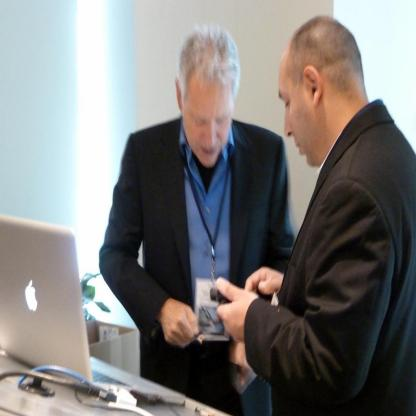board: (0, 212, 184, 406)
